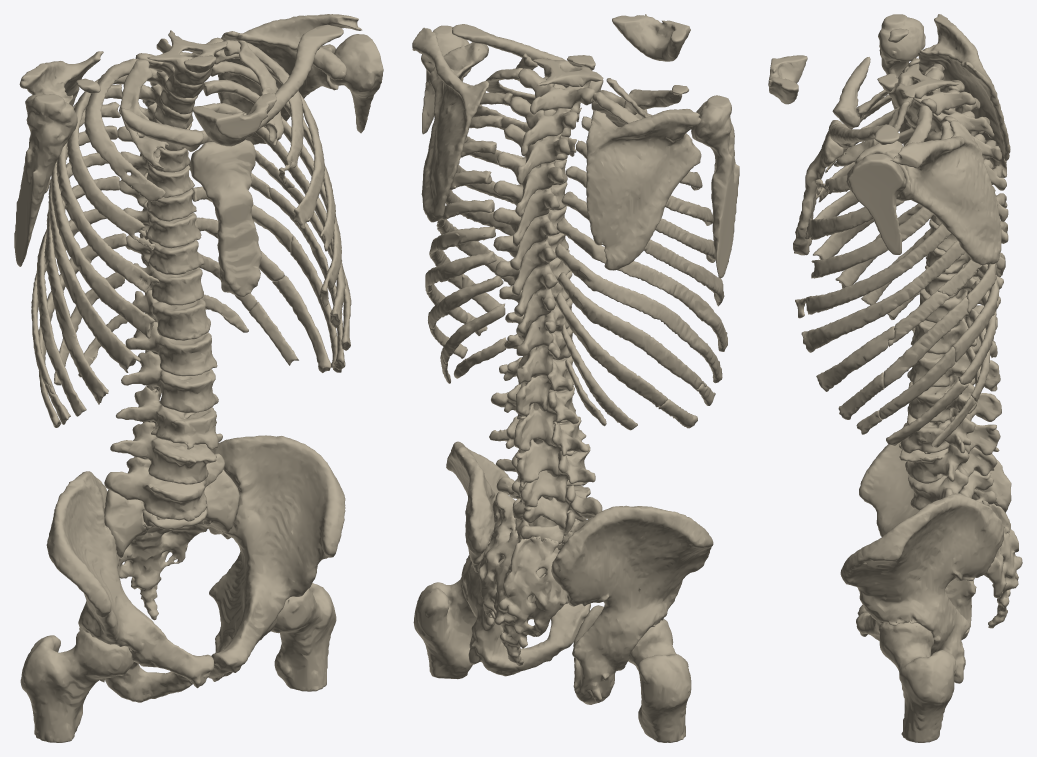
File: tsd_s0327_older_adult_male.skeletal.LOD1.glb
The picture shows the model from 3 angles, left to right: view 1: azimuth 30°, elevation 25°; view 2: azimuth 150°, elevation 25°; view 3: azimuth 270°, elevation 25°; orthographic projection. The views are drawn at different scales.
Parts seen in each view (by area): view 1: TSD_S0327.OLDER_ADULT.MALE.SKELETAL.HIP_BONE_OS_COXAE.L, TSD_S0327.OLDER_ADULT.MALE.SKELETAL.HIP_BONE_OS_COXAE.R, TSD_S0327.OLDER_ADULT.MALE.SKELETAL.FEMUR.R, TSD_S0327.OLDER_ADULT.MALE.SKELETAL.SACRUM, TSD_S0327.OLDER_ADULT.MALE.SKELETAL.STERNUM, TSD_S0327.OLDER_ADULT.MALE.SKELETAL.SCAPULA.L, TSD_S0327.OLDER_ADULT.MALE.SKELETAL.HUMERUS.R, TSD_S0327.OLDER_ADULT.MALE.SKELETAL.FEMUR.L, TSD_S0327.OLDER_ADULT.MALE.SKELETAL.VERTEBRA_L5, TSD_S0327.OLDER_ADULT.MALE.SKELETAL.VERTEBRA_L4, TSD_S0327.OLDER_ADULT.MALE.SKELETAL.VERTEBRA_L3, TSD_S0327.OLDER_ADULT.MALE.SKELETAL.RIB_5.R (+41 smaller); view 2: TSD_S0327.OLDER_ADULT.MALE.SKELETAL.HIP_BONE_OS_COXAE.R, TSD_S0327.OLDER_ADULT.MALE.SKELETAL.SCAPULA.R, TSD_S0327.OLDER_ADULT.MALE.SKELETAL.SACRUM, TSD_S0327.OLDER_ADULT.MALE.SKELETAL.HIP_BONE_OS_COXAE.L, TSD_S0327.OLDER_ADULT.MALE.SKELETAL.SCAPULA.L, TSD_S0327.OLDER_ADULT.MALE.SKELETAL.FEMUR.R, TSD_S0327.OLDER_ADULT.MALE.SKELETAL.FEMUR.L, TSD_S0327.OLDER_ADULT.MALE.SKELETAL.HUMERUS.R, TSD_S0327.OLDER_ADULT.MALE.SKELETAL.RIB_8.R, TSD_S0327.OLDER_ADULT.MALE.SKELETAL.VERTEBRA_L3, TSD_S0327.OLDER_ADULT.MALE.SKELETAL.RIB_7.R, TSD_S0327.OLDER_ADULT.MALE.SKELETAL.RIB_9.R (+39 smaller); view 3: TSD_S0327.OLDER_ADULT.MALE.SKELETAL.HIP_BONE_OS_COXAE.L, TSD_S0327.OLDER_ADULT.MALE.SKELETAL.SCAPULA.L, TSD_S0327.OLDER_ADULT.MALE.SKELETAL.FEMUR.L, TSD_S0327.OLDER_ADULT.MALE.SKELETAL.HIP_BONE_OS_COXAE.R, TSD_S0327.OLDER_ADULT.MALE.SKELETAL.SCAPULA.R, TSD_S0327.OLDER_ADULT.MALE.SKELETAL.HUMERUS.L, TSD_S0327.OLDER_ADULT.MALE.SKELETAL.RIB_9.L, TSD_S0327.OLDER_ADULT.MALE.SKELETAL.RIB_6.L, TSD_S0327.OLDER_ADULT.MALE.SKELETAL.RIB_5.L, TSD_S0327.OLDER_ADULT.MALE.SKELETAL.VERTEBRA_L3, TSD_S0327.OLDER_ADULT.MALE.SKELETAL.VERTEBRA_L4, TSD_S0327.OLDER_ADULT.MALE.SKELETAL.RIB_8.L (+30 smaller).
Boxes of the visible parts, <box> form: TSD_S0327.OLDER_ADULT.MALE.SKELETAL.HIP_BONE_OS_COXAE.L: <box>207,435,345,681</box>; TSD_S0327.OLDER_ADULT.MALE.SKELETAL.HIP_BONE_OS_COXAE.R: <box>46,471,214,702</box>; TSD_S0327.OLDER_ADULT.MALE.SKELETAL.FEMUR.R: <box>20,630,133,742</box>; TSD_S0327.OLDER_ADULT.MALE.SKELETAL.SACRUM: <box>104,469,239,620</box>; TSD_S0327.OLDER_ADULT.MALE.SKELETAL.STERNUM: <box>190,139,261,296</box>; TSD_S0327.OLDER_ADULT.MALE.SKELETAL.SCAPULA.L: <box>218,14,362,144</box>; TSD_S0327.OLDER_ADULT.MALE.SKELETAL.HUMERUS.R: <box>14,94,77,266</box>; TSD_S0327.OLDER_ADULT.MALE.SKELETAL.FEMUR.L: <box>271,583,336,691</box>; TSD_S0327.OLDER_ADULT.MALE.SKELETAL.VERTEBRA_L5: <box>104,453,224,521</box>; TSD_S0327.OLDER_ADULT.MALE.SKELETAL.VERTEBRA_L4: <box>110,422,222,484</box>; TSD_S0327.OLDER_ADULT.MALE.SKELETAL.VERTEBRA_L3: <box>116,386,218,449</box>; TSD_S0327.OLDER_ADULT.MALE.SKELETAL.RIB_5.R: <box>50,102,155,338</box>; TSD_S0327.OLDER_ADULT.MALE.SKELETAL.HIP_BONE_OS_COXAE.R: <box>551,505,713,704</box>; TSD_S0327.OLDER_ADULT.MALE.SKELETAL.SCAPULA.R: <box>586,109,701,270</box>; TSD_S0327.OLDER_ADULT.MALE.SKELETAL.SACRUM: <box>478,491,592,665</box>; TSD_S0327.OLDER_ADULT.MALE.SKELETAL.HIP_BONE_OS_COXAE.L: <box>446,441,590,676</box>; TSD_S0327.OLDER_ADULT.MALE.SKELETAL.SCAPULA.L: <box>412,27,489,222</box>; TSD_S0327.OLDER_ADULT.MALE.SKELETAL.FEMUR.R: <box>628,619,691,742</box>; TSD_S0327.OLDER_ADULT.MALE.SKELETAL.FEMUR.L: <box>413,563,476,679</box>; TSD_S0327.OLDER_ADULT.MALE.SKELETAL.HUMERUS.R: <box>691,95,739,278</box>; TSD_S0327.OLDER_ADULT.MALE.SKELETAL.RIB_8.R: <box>555,243,722,383</box>; TSD_S0327.OLDER_ADULT.MALE.SKELETAL.VERTEBRA_L3: <box>489,416,588,487</box>; TSD_S0327.OLDER_ADULT.MALE.SKELETAL.RIB_7.R: <box>556,217,727,351</box>; TSD_S0327.OLDER_ADULT.MALE.SKELETAL.RIB_9.R: <box>558,272,706,390</box>; TSD_S0327.OLDER_ADULT.MALE.SKELETAL.HIP_BONE_OS_COXAE.L: <box>840,493,1004,683</box>; TSD_S0327.OLDER_ADULT.MALE.SKELETAL.SCAPULA.L: <box>855,120,1001,265</box>; TSD_S0327.OLDER_ADULT.MALE.SKELETAL.FEMUR.L: <box>879,622,955,742</box>; TSD_S0327.OLDER_ADULT.MALE.SKELETAL.HIP_BONE_OS_COXAE.R: <box>857,442,1011,639</box>; TSD_S0327.OLDER_ADULT.MALE.SKELETAL.SCAPULA.R: <box>918,14,1010,177</box>; TSD_S0327.OLDER_ADULT.MALE.SKELETAL.HUMERUS.L: <box>846,153,905,254</box>; TSD_S0327.OLDER_ADULT.MALE.SKELETAL.RIB_9.L: <box>856,264,999,434</box>; TSD_S0327.OLDER_ADULT.MALE.SKELETAL.RIB_6.L: <box>801,240,965,352</box>; TSD_S0327.OLDER_ADULT.MALE.SKELETAL.RIB_5.L: <box>795,223,950,318</box>; TSD_S0327.OLDER_ADULT.MALE.SKELETAL.VERTEBRA_L3: <box>900,408,1000,455</box>; TSD_S0327.OLDER_ADULT.MALE.SKELETAL.VERTEBRA_L4: <box>899,441,997,483</box>; TSD_S0327.OLDER_ADULT.MALE.SKELETAL.RIB_8.L: <box>838,262,997,419</box>.
Size of the model in its own units: 0.3355 by 0.6439 by 0.2466.
